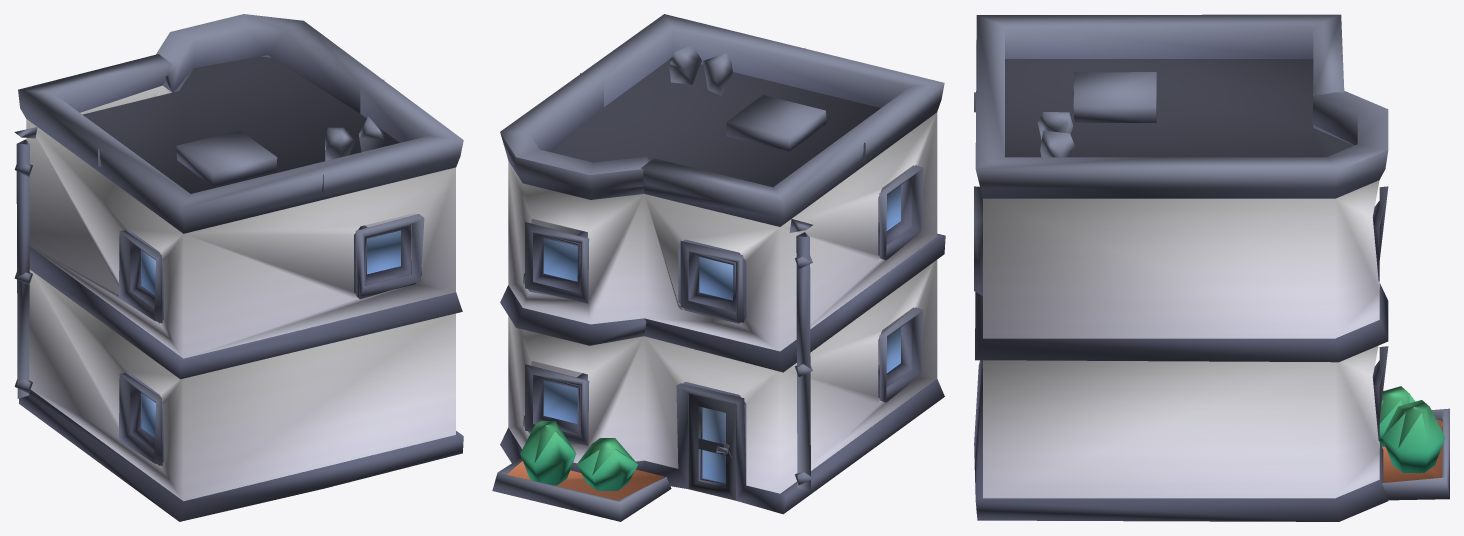
File: tower-c-medium.glb
The picture shows the model from 3 angles, left to right: view 1: azimuth 30°, elevation 25°; view 2: azimuth 150°, elevation 25°; view 3: azimuth 270°, elevation 25°; orthographic projection. The views are drawn at different scales.
Parts seen in each view (by area): view 1: building-c baked; view 2: building-c baked; view 3: building-c baked.
Boxes of the visible parts, x1=… form: building-c baked: x1=14, y1=14, x2=463, y2=521; building-c baked: x1=492, y1=14, x2=945, y2=521; building-c baked: x1=974, y1=14, x2=1449, y2=521.
Size of the model in its own units: 27.65 by 28 by 33.72.
1 material, 1 textured.
